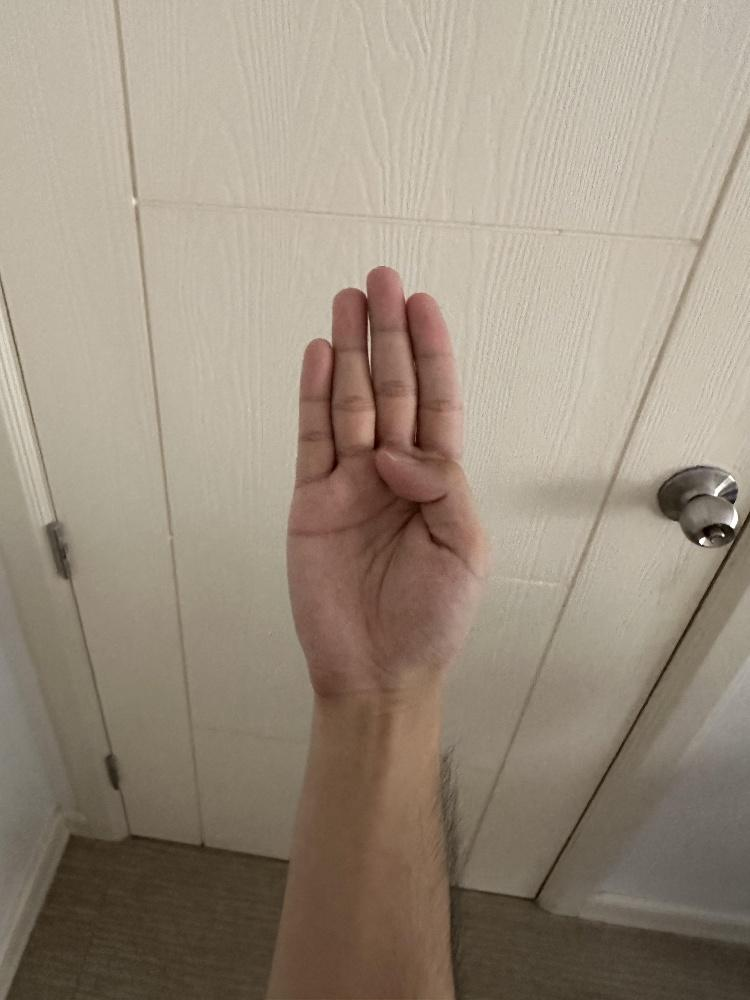b: (281, 262, 484, 699)
